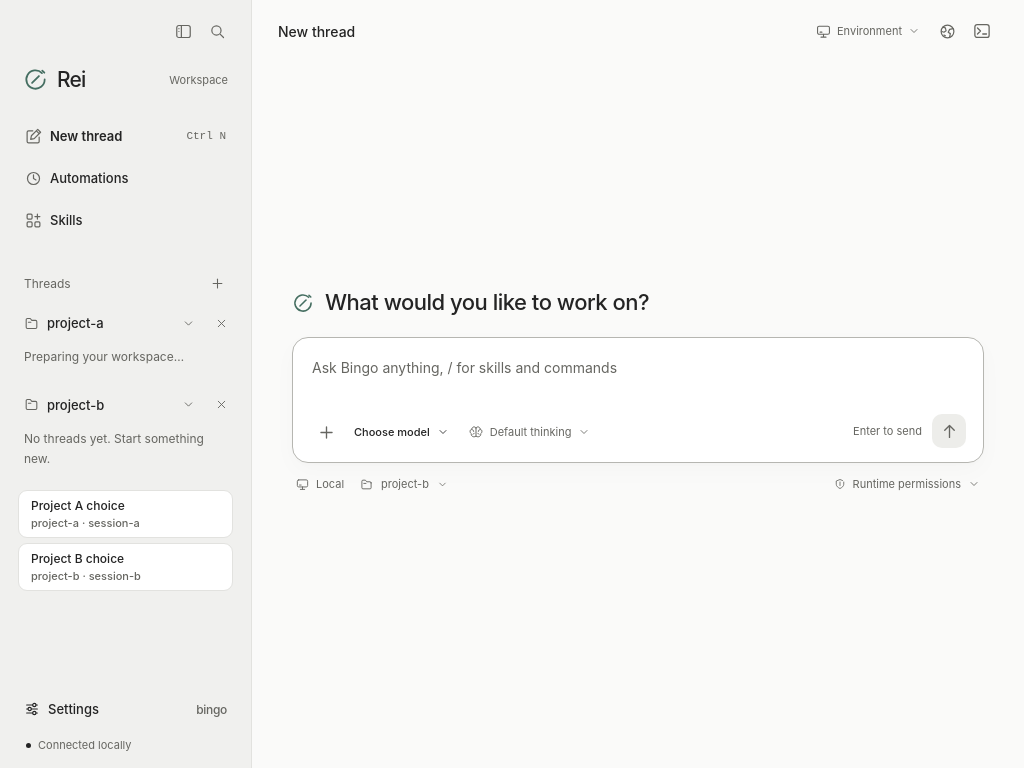
Test case: desktop user journeys › routes onboarding Reconnect to previewed A, not saved B, when A is failed
Check: the text "Connected locally" is shown, box [38, 738, 132, 752]
Click the button with aria-label "Open project project-a" at point(110, 323), box [14, 308, 205, 338]
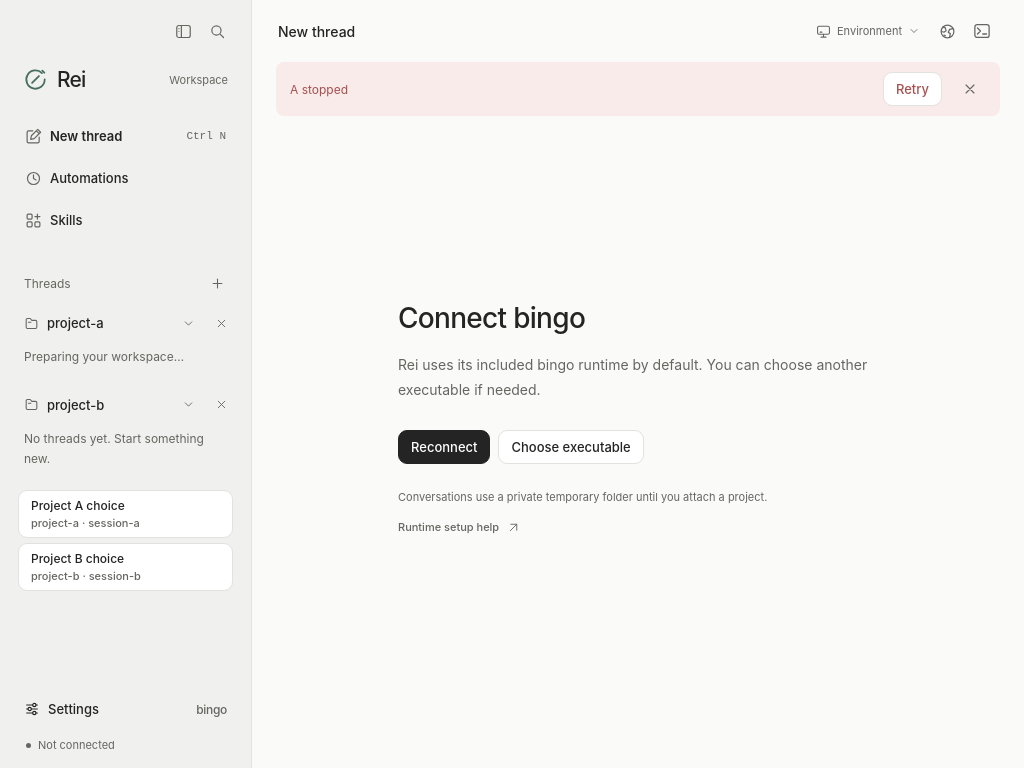
Check: the element with class "onboarding" is shown, box [398, 301, 867, 544]
Click the button "Reconnect" at point(444, 447), box [398, 430, 490, 464]
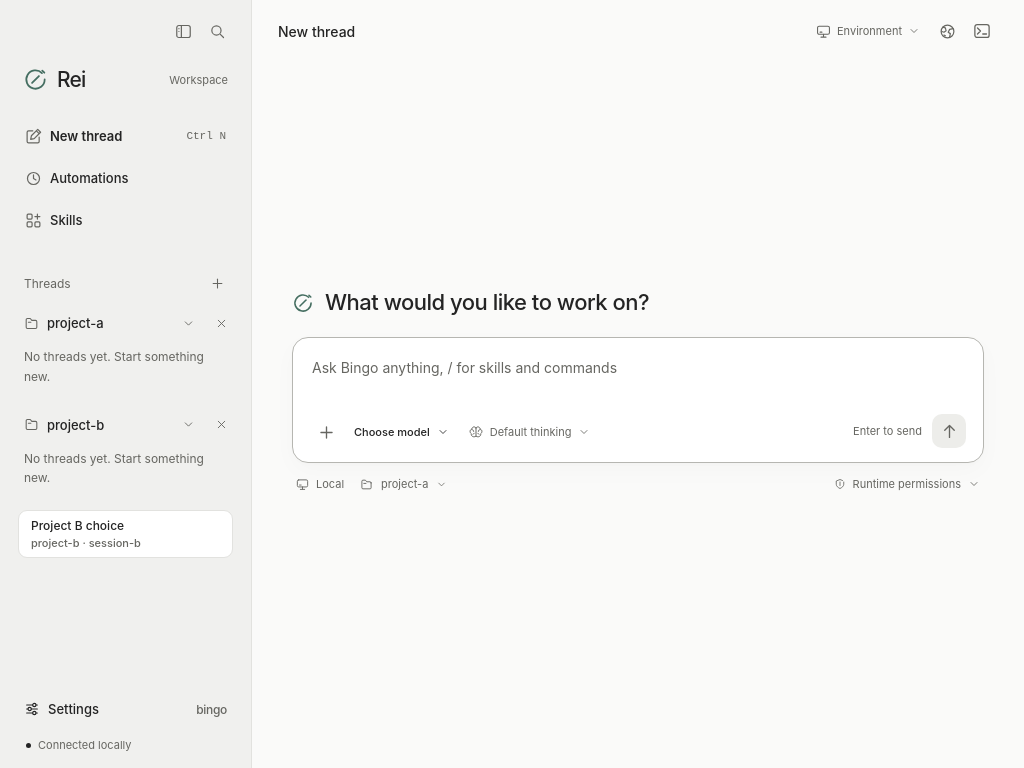
Check: the text box named "Message bingo" is shown, box [307, 350, 969, 412]
